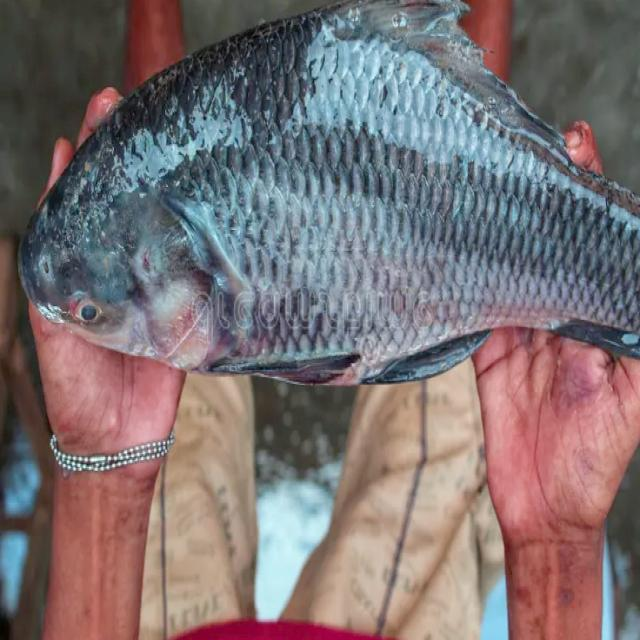Catla: (16, 0, 640, 387)
